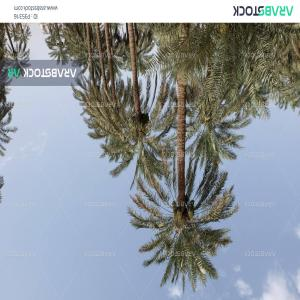palm tree: (39, 21, 300, 293)
